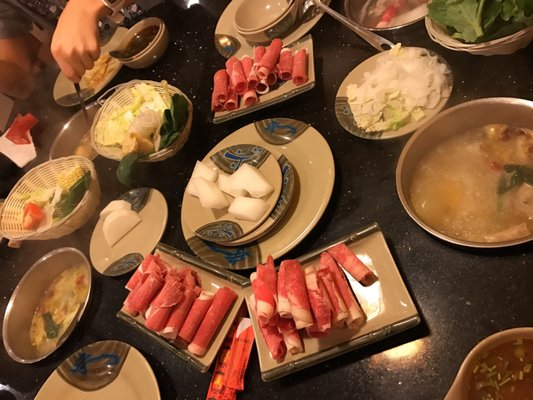salad: (287, 0, 397, 53)
sushi: (247, 221, 428, 385), (395, 97, 533, 252), (183, 124, 302, 248), (334, 43, 454, 141), (1, 247, 94, 366), (0, 155, 101, 247), (90, 79, 194, 167), (443, 327, 533, 399), (423, 0, 533, 56), (110, 17, 170, 70), (345, 0, 430, 30)
